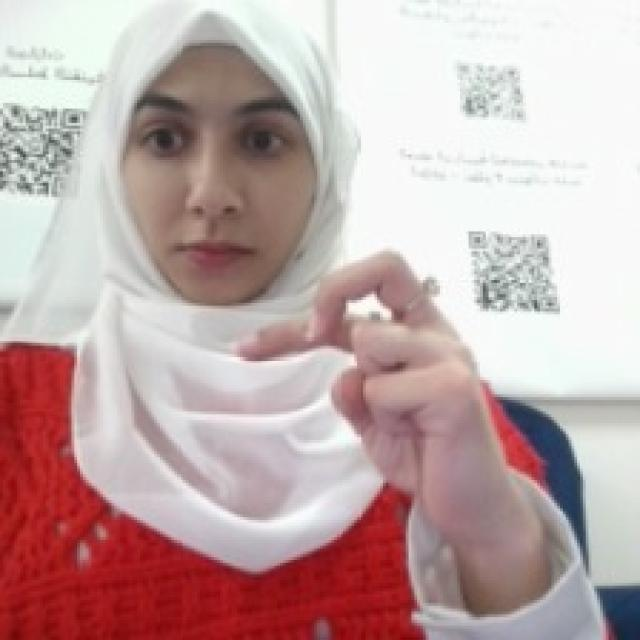sunday: (231, 235, 486, 494)
